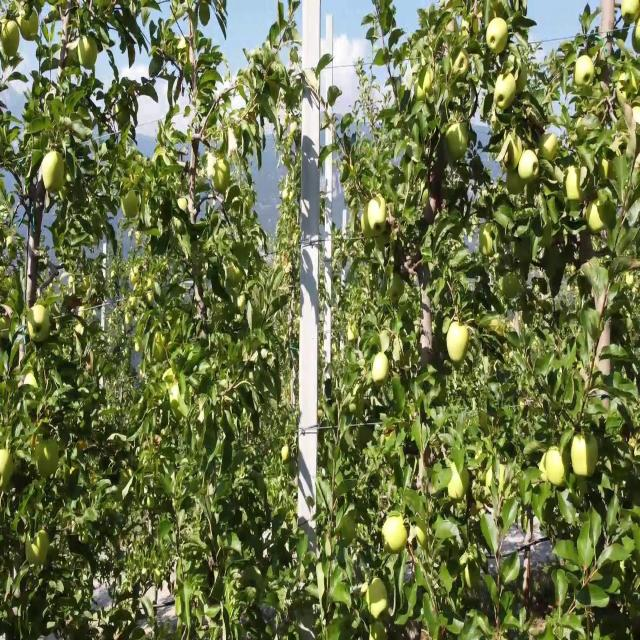apple: (572, 433, 600, 478), (548, 447, 571, 491), (448, 462, 472, 503), (44, 149, 65, 194), (28, 305, 51, 345), (448, 120, 470, 160), (384, 519, 408, 555), (496, 71, 516, 114), (576, 56, 596, 96), (488, 21, 510, 57), (36, 447, 60, 480), (448, 327, 469, 363), (520, 149, 540, 185), (20, 7, 40, 43), (80, 35, 100, 71), (504, 135, 524, 171), (28, 533, 50, 565), (0, 447, 15, 491), (368, 199, 387, 233), (588, 199, 605, 235), (372, 355, 391, 386), (540, 135, 560, 164), (4, 21, 20, 57), (372, 583, 388, 619), (568, 170, 585, 203), (368, 583, 388, 610), (596, 199, 611, 235), (592, 199, 606, 235), (216, 163, 232, 194), (516, 234, 532, 265), (452, 56, 471, 82), (360, 206, 374, 240), (124, 191, 140, 220), (388, 277, 404, 306), (600, 156, 616, 185), (508, 170, 525, 197), (340, 519, 357, 546), (504, 277, 521, 300), (60, 170, 73, 199), (480, 227, 493, 256), (624, 7, 640, 28), (64, 163, 73, 199), (516, 71, 528, 96), (376, 234, 391, 254), (364, 213, 374, 240), (416, 526, 428, 548), (200, 7, 212, 28), (424, 71, 433, 94), (492, 7, 506, 21), (416, 85, 427, 101), (48, 7, 60, 21), (348, 327, 359, 341), (284, 447, 292, 462), (636, 28, 640, 55)
